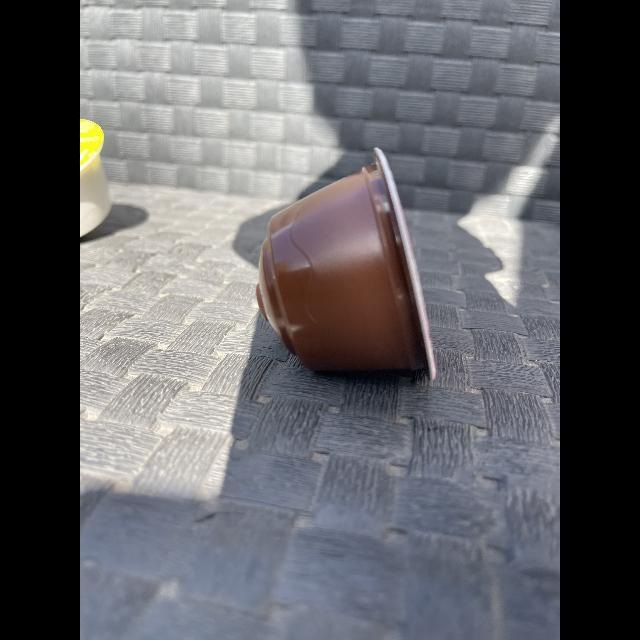intact_capsule: (234, 140, 458, 410)
